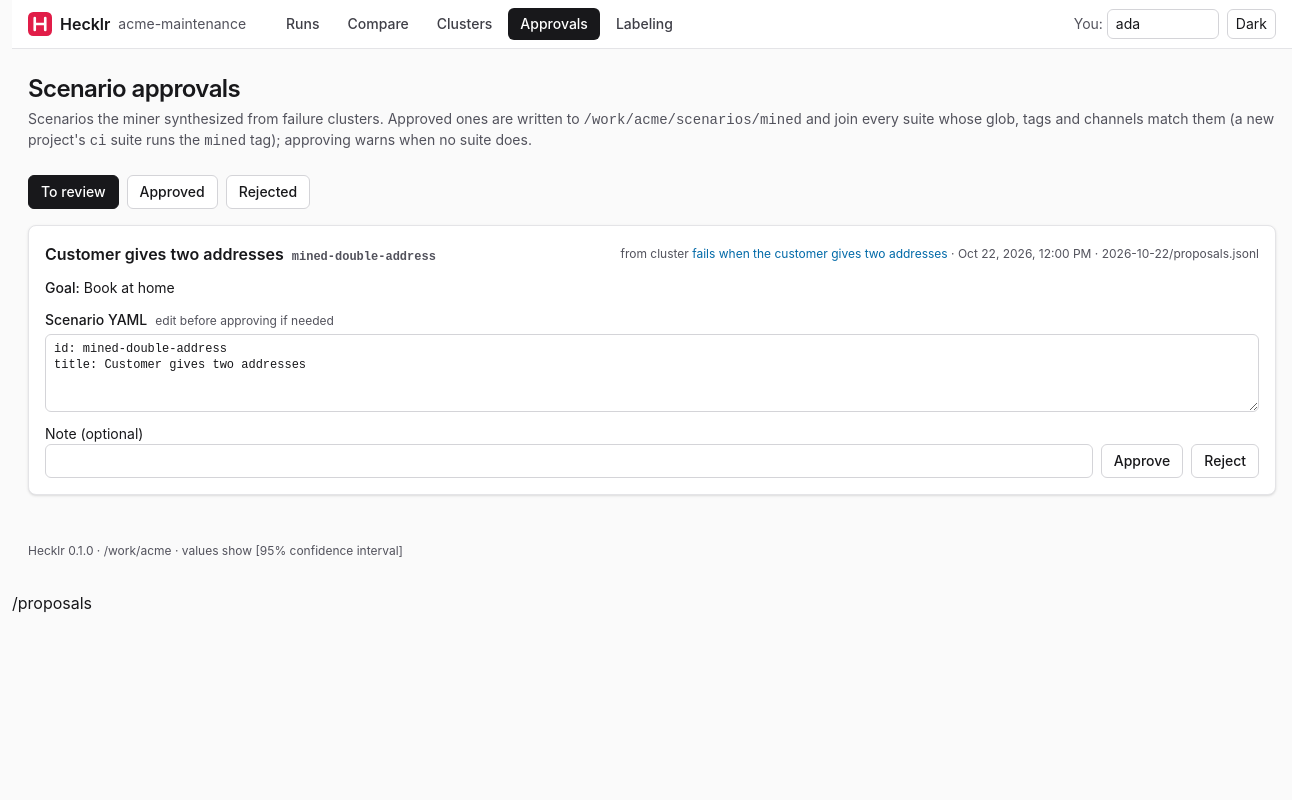
ProposalsPage › lists the loader's problems when the scenario is invalid
Click the button "Approve" at [1142, 461], box [1101,444,1183,478]
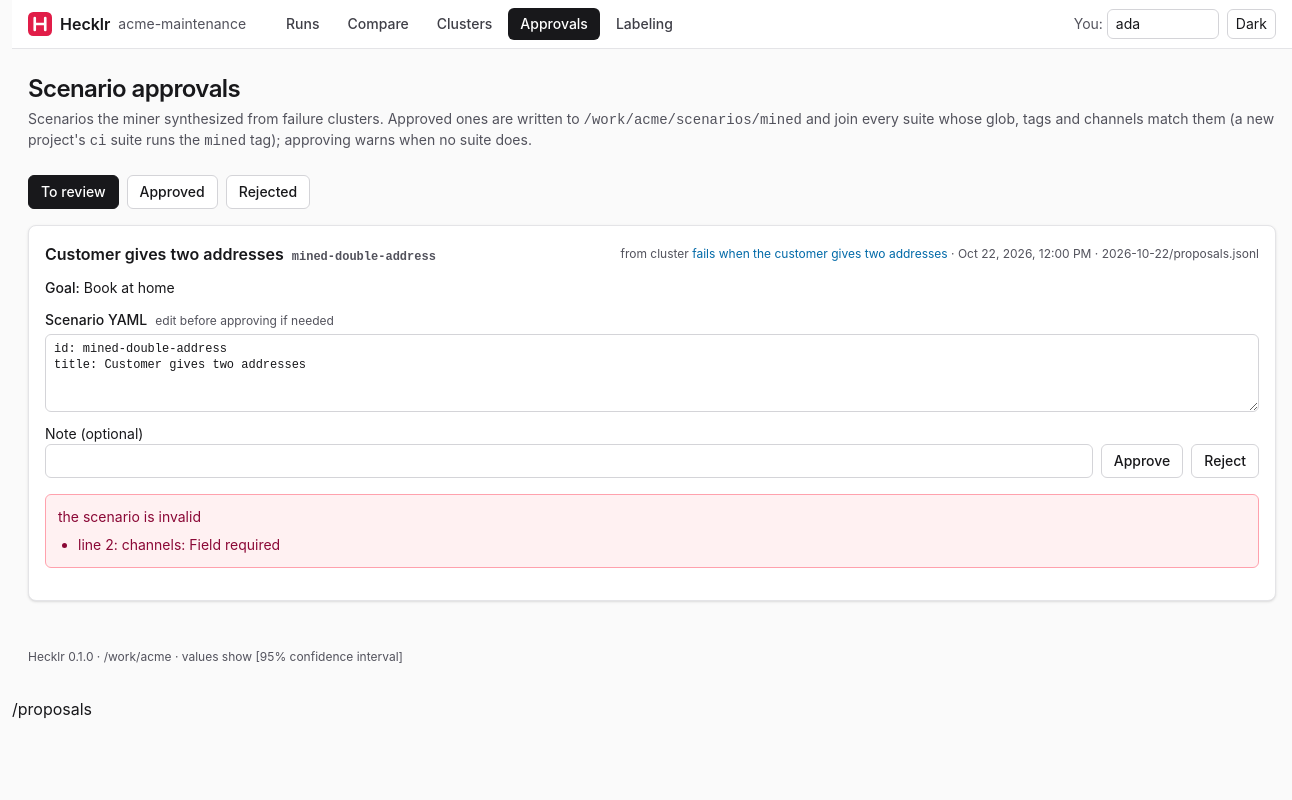
Now the message shows "the scenario is invalid", box [58,508,201,525]
Now the message shows "line 2: channels: Field required", box [78,536,280,553]
